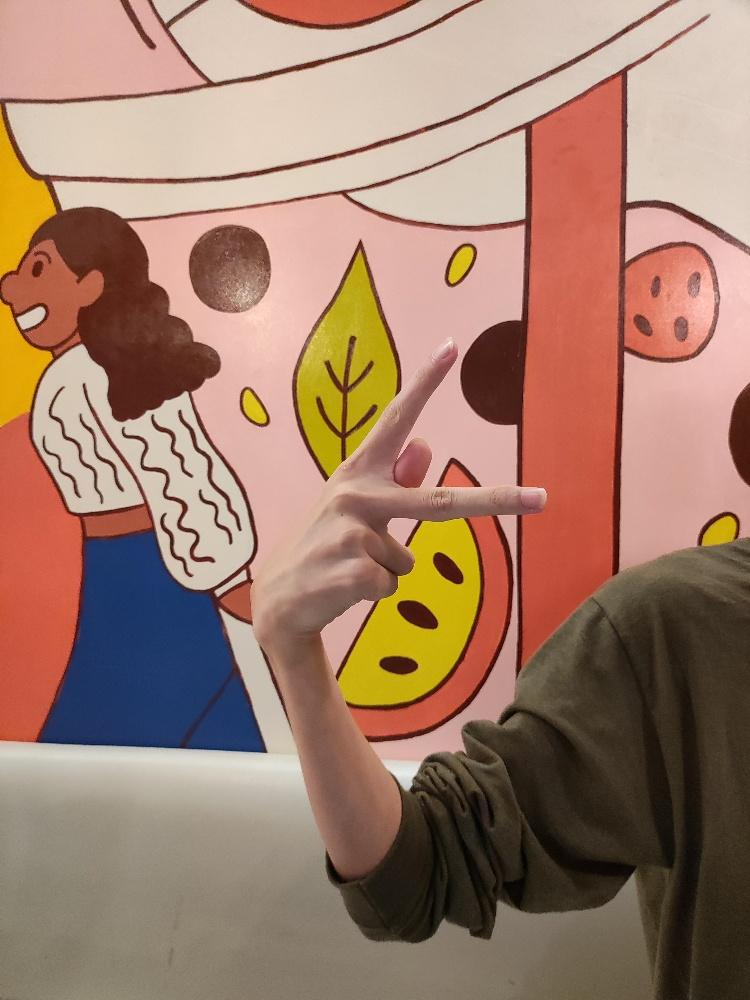k: (248, 331, 549, 642)
